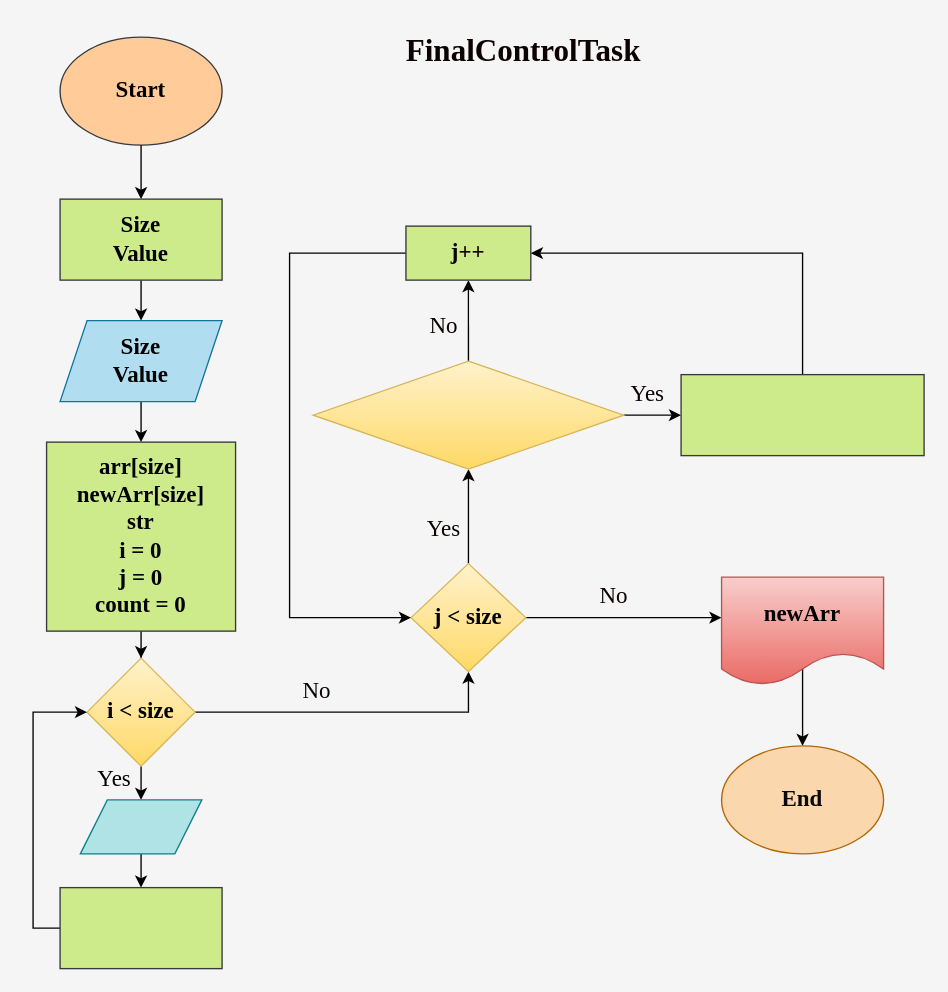
Image size: 948x992. Some labels were removed from this diagram. The centre of each missing label's shape, as x and y in pixels:
"arr[i] = str i++" goes at pixel 140 927.
"arr[j].Length <= value" goes at pixel 468 414.
"newArr[count] = arr[j] count++" goes at pixel 802 414.
"str" goes at pixel 140 826.
